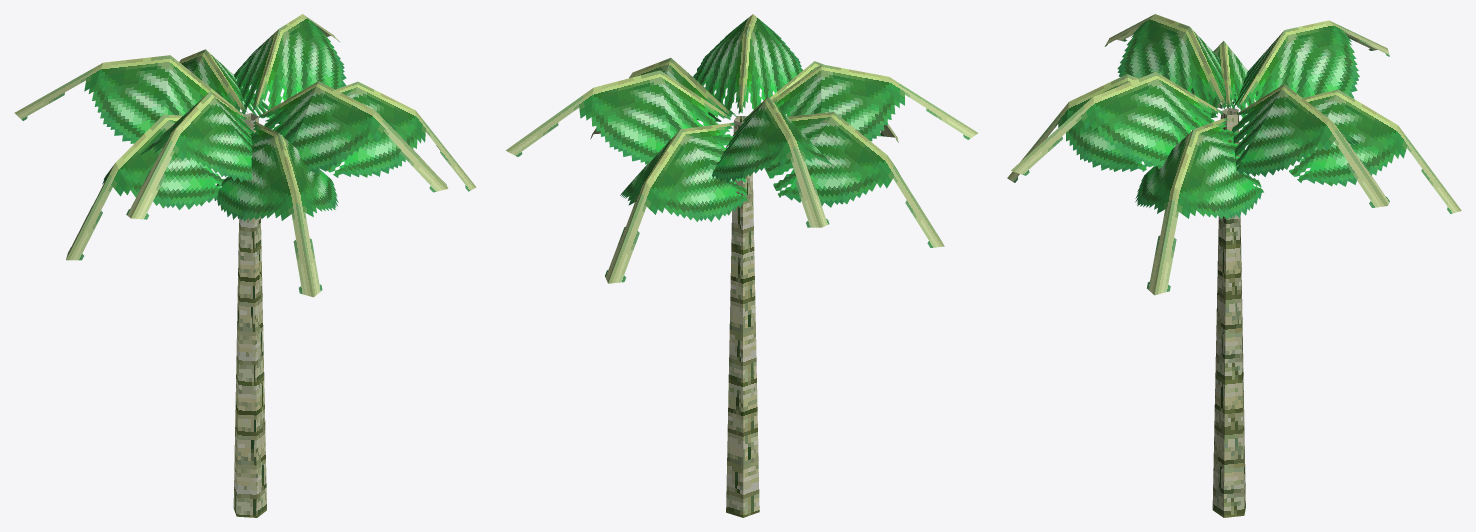
File: SI_PalmTree_Improved_NonClimbableStaticObject_KCLVersion.dae
3 renders of one model, left to right at view 1: azimuth 30°, elevation 25°; view 2: azimuth 150°, elevation 25°; view 3: azimuth 270°, elevation 25°, orthographic. The views are drawn at different scales.
Parts seen in each view (by area): view 1: r0; view 2: r0; view 3: r0.
Part boxes in pixels (<box>): r0: <box>14,14,476,517</box>; r0: <box>506,14,977,517</box>; r0: <box>1007,14,1461,517</box>.
Bounding box in the file's own units: 1.46 × 1.48 × 1.63.
